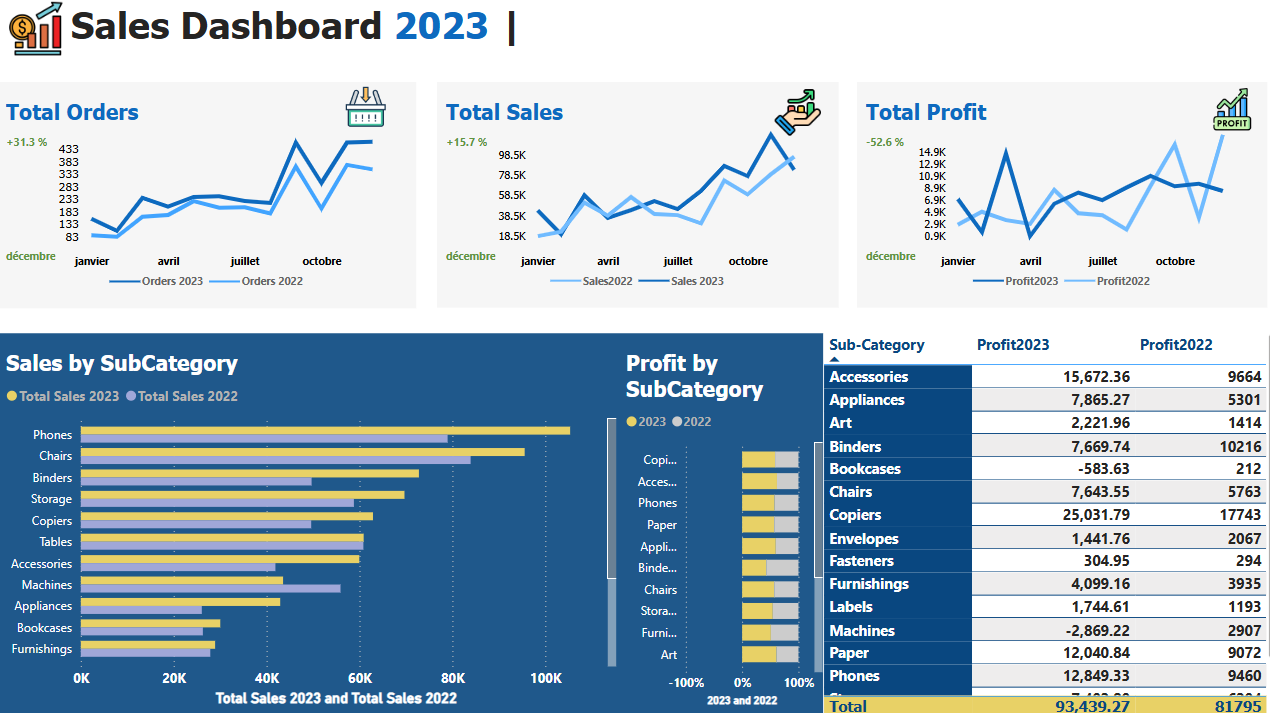

Layout of this report page (visuals, bound fields, positions):
{"tool":"powerbi","page":{"name":"Page 1","canvas":[1280,720],"ordinal":0},"visuals":[{"type":"textbox","box":[68.8,0,511.2,63.8],"z":0},{"type":"powerKPI462CE5C2666F4EC8A8BDD7E5587320A3","title":"Total Orders","fields":{"Values":["Orders.OrdersCount2023","Orders.OrdersCount2022"],"Axis":["Orders.Order Date.Variation.Hiérarchie de dates.Mois"]},"box":[0,85.6,419.4,226.2],"z":1000},{"type":"image","box":[328.9,85.6,80.7,50.1],"z":2000},{"type":"powerKPI462CE5C2666F4EC8A8BDD7E5587320A3","title":"Total Sales","fields":{"Axis":["Orders.Order Date.Variation.Hiérarchie de dates.Mois"],"Values":["Orders.Sales2022","Orders.Sales2023"]},"box":[440,84.8,401.3,225.6],"z":3000},{"type":"image","box":[760.3,84.8,81,61.1],"z":4000},{"type":"powerKPI462CE5C2666F4EC8A8BDD7E5587320A3","title":"Total Profit","fields":{"Axis":["Orders.Order Date.Variation.Hiérarchie de dates.Mois"],"Values":["Customers.Profit2023","Customers.Profit 2022"]},"box":[860,84.8,410,225.6],"z":5000},{"type":"image","box":[1201.5,86,68.5,52.3],"z":6000},{"type":"clusteredBarChart","title":"Sales by SubCategory","fields":{"Category":["Products.Sub-Category"],"Y":["Products.Total Sales 2023 by Subcategory","Products.Total Sales 2022 by Subcategory"]},"box":[0,336.3,620,384],"z":7000},{"type":"hundredPercentStackedBarChart","title":"Profit by SubCategory","fields":{"Category":["Products.Sub-Category"],"Y":["Products.Total Profit by Subcategory","Products.Total Profit by Subcategory 2022"]},"box":[620,336.3,206.7,384],"z":8000},{"type":"tableEx","title":"Total Profit","fields":{"Values":["Products.Sub-Category","Customers.Profit2023","Customers.Profit2022"]},"box":[826.2,336.2,453.8,383.8],"z":9000},{"type":"image","box":[0,0,77.5,63.8],"z":9001}]}

Visuals, with their boxes in screenshot pixels (x1, y1, x2, y2), scaled from the page's 1280x720 canvas onto the 1270x713 screenshot:
textbox: crop(68, 0, 575, 63)
"Total Orders" powerKPI462CE5C2666F4EC8A8BDD7E5587320A3: crop(0, 85, 416, 309)
image: crop(326, 85, 406, 134)
"Total Sales" powerKPI462CE5C2666F4EC8A8BDD7E5587320A3: crop(437, 84, 835, 307)
image: crop(754, 84, 835, 144)
"Total Profit" powerKPI462CE5C2666F4EC8A8BDD7E5587320A3: crop(853, 84, 1260, 307)
image: crop(1192, 85, 1260, 137)
"Sales by SubCategory" clusteredBarChart: crop(0, 333, 615, 712)
"Profit by SubCategory" hundredPercentStackedBarChart: crop(615, 333, 820, 712)
"Total Profit" tableEx: crop(820, 333, 1269, 712)
image: crop(0, 0, 77, 63)
